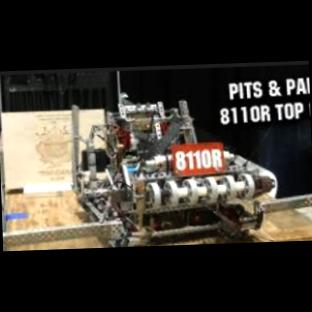Robot: (3, 93, 312, 246), (72, 93, 312, 246)
